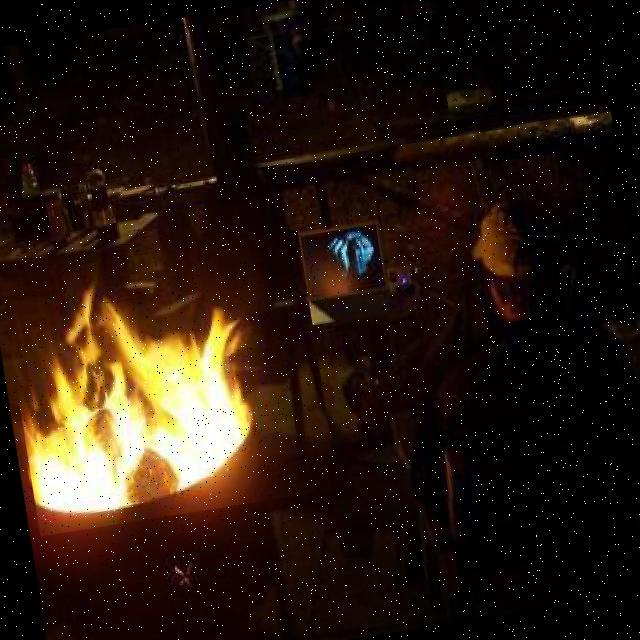fire: (0, 230, 338, 536)
